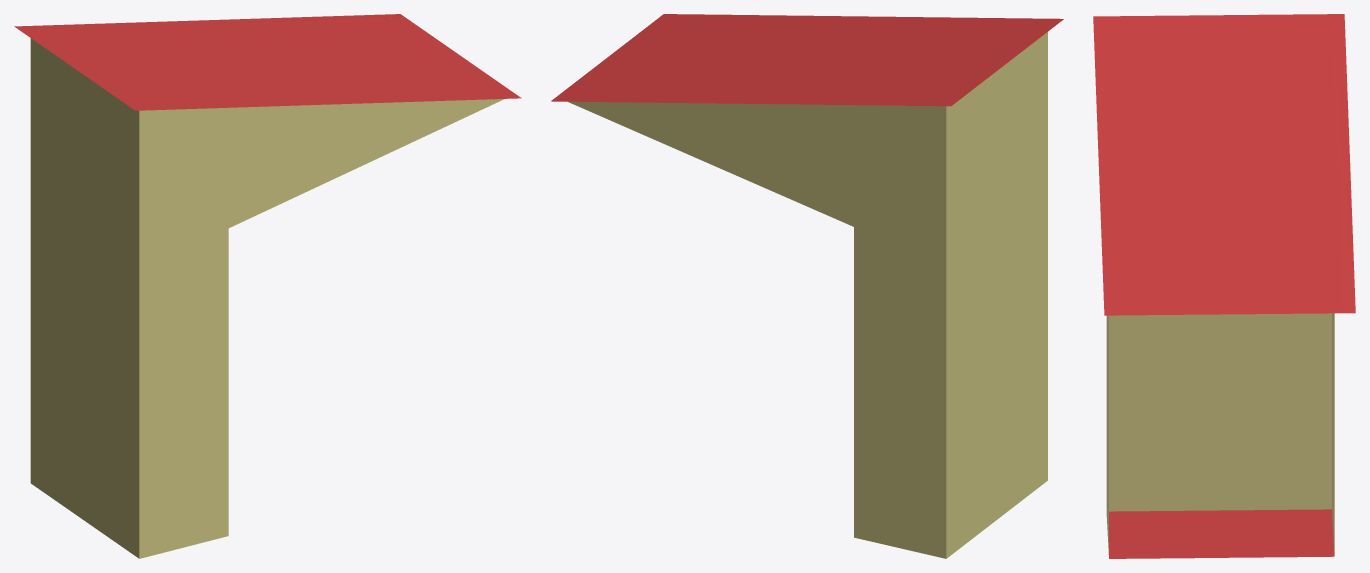
The picture shows the model from 3 angles, left to right: view 1: azimuth 30°, elevation 25°; view 2: azimuth 150°, elevation 25°; view 3: azimuth 270°, elevation 25°; orthographic projection. The views are drawn at different scales.
Bounding box in the file's own units: 9.49 × 5.06 × 10.41.
